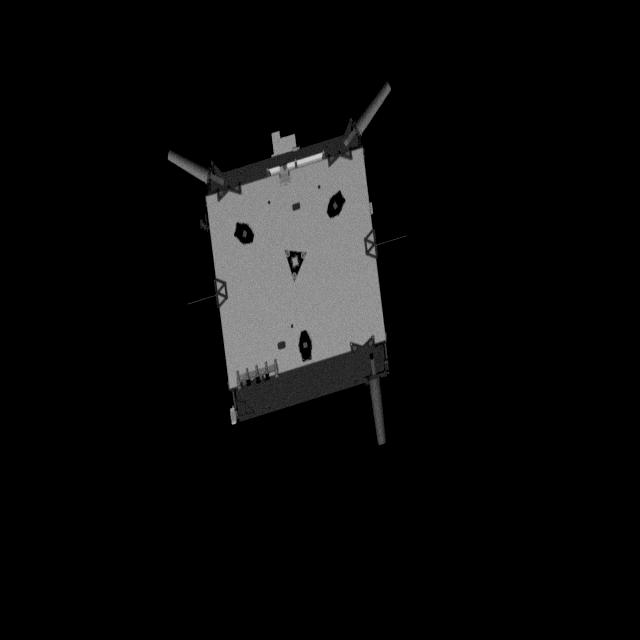medium_debris: (160, 86, 402, 458)
